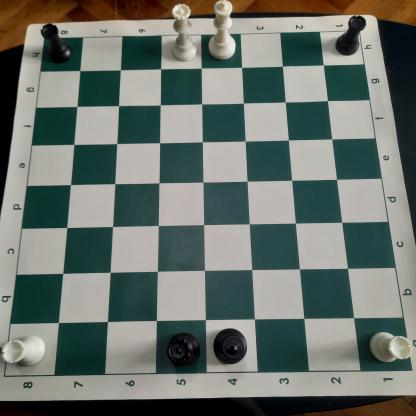black-king: (211, 324, 252, 368)
black-queen: (164, 332, 204, 369)
black-rook: (37, 20, 77, 66), (332, 13, 368, 60)
white-king: (206, 0, 240, 63)
white-queen: (169, 2, 201, 63)
white-rook: (367, 326, 413, 369), (1, 332, 50, 369)
